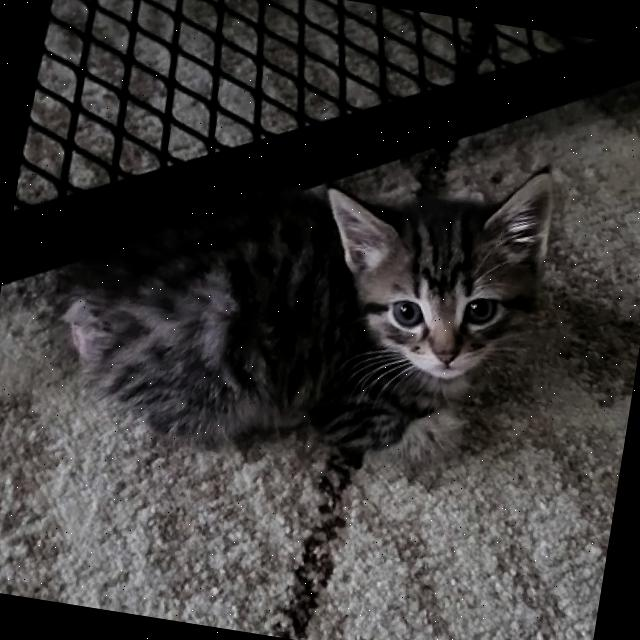manx_cat: (290, 123, 581, 411)
